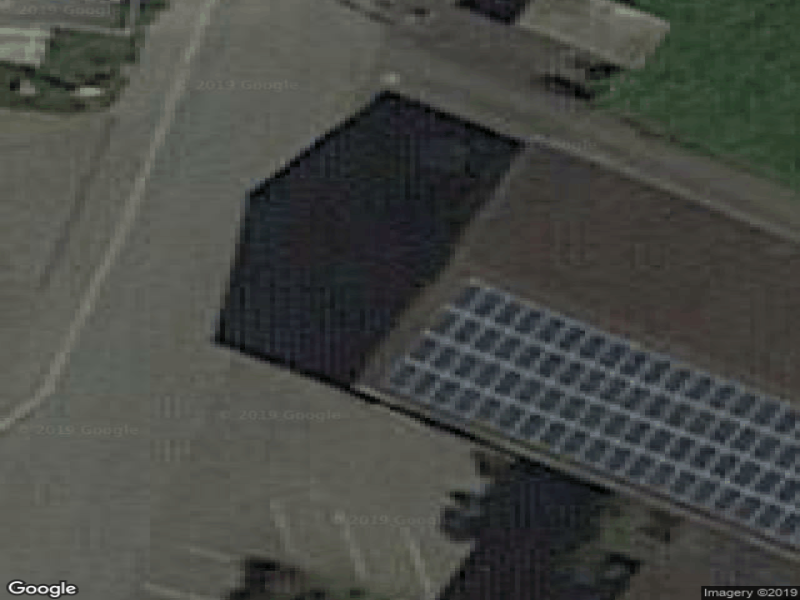pv: (388, 279, 800, 547)
